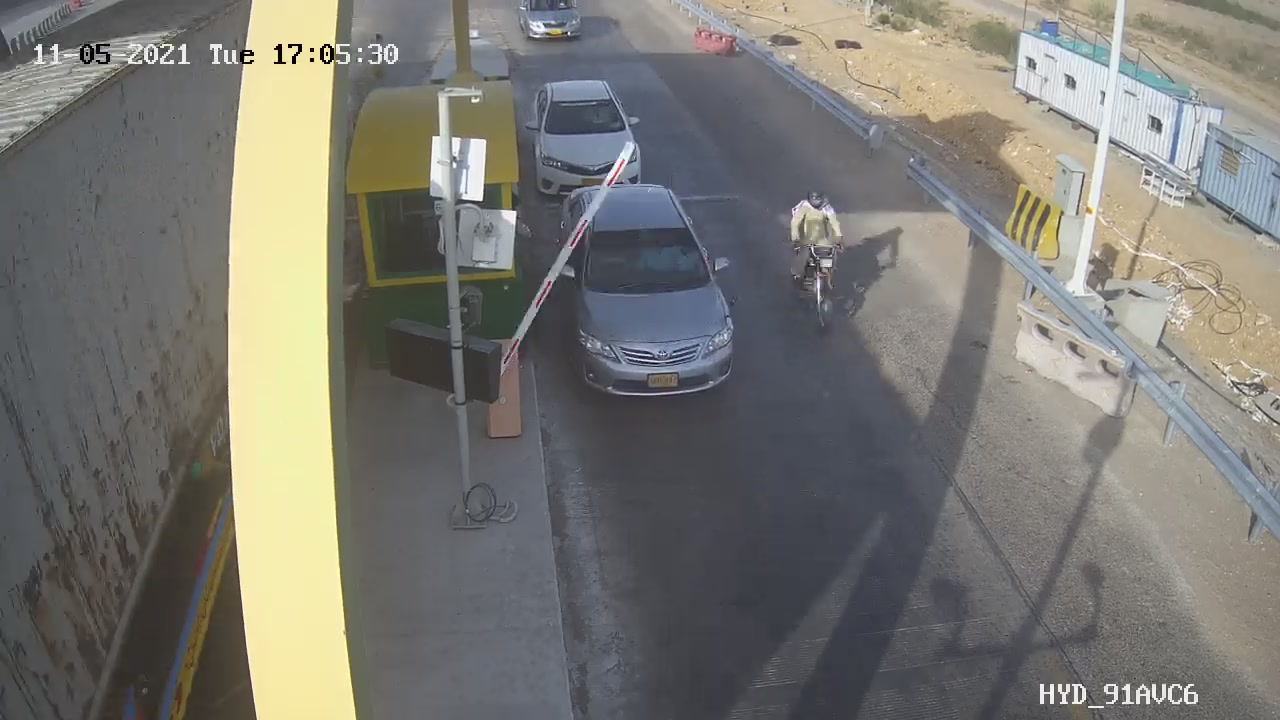F1: (535, 175, 763, 411), (514, 68, 664, 220)
